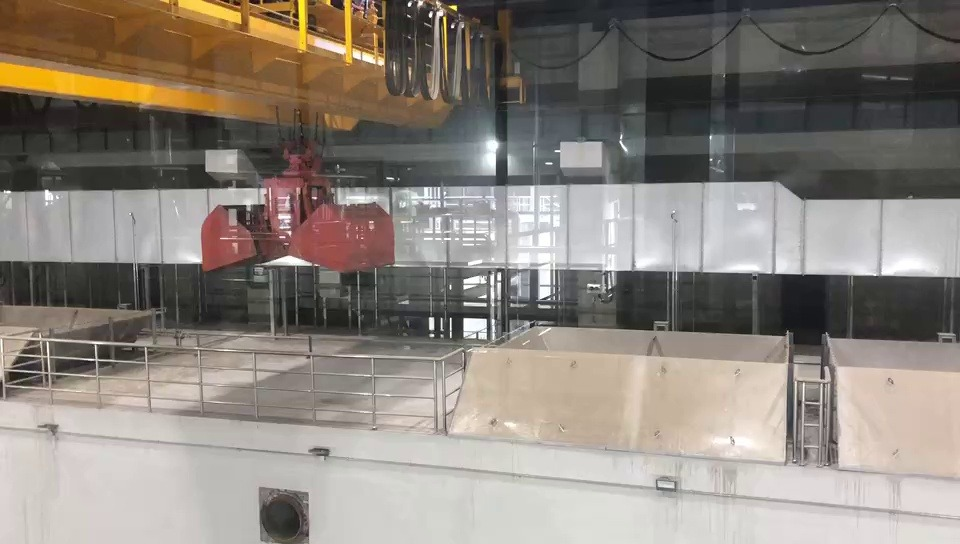grab: (196, 144, 395, 278)
